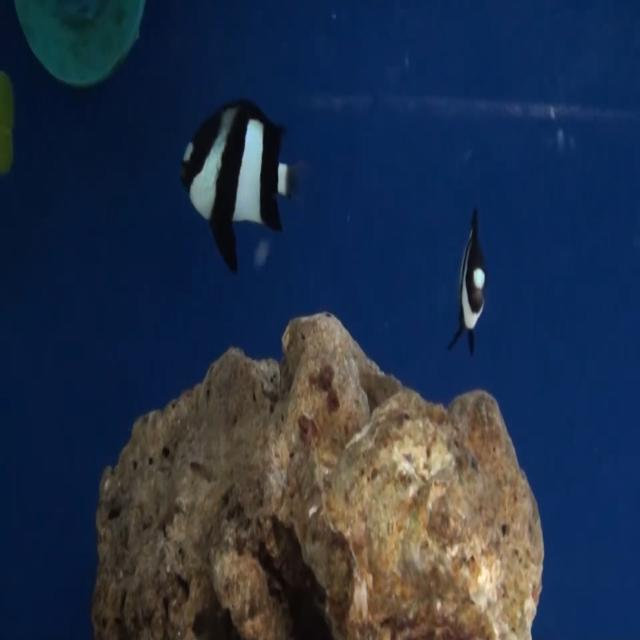ThreeStripedDamselfish: (180, 100, 305, 273), (450, 208, 488, 357)
